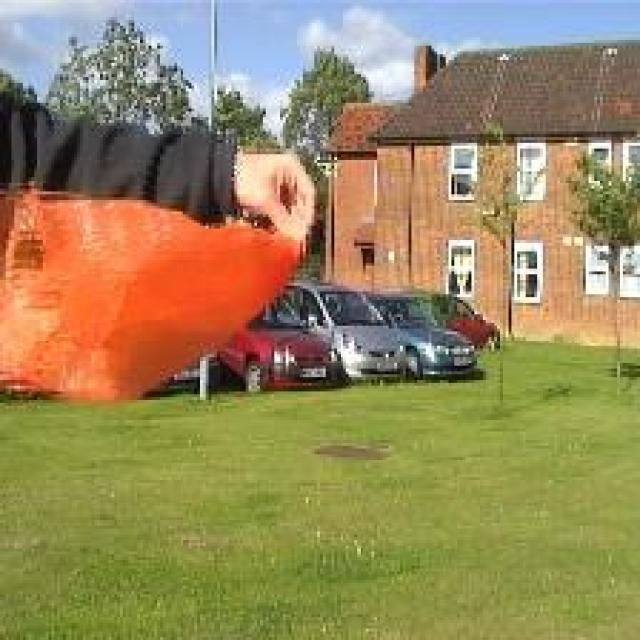other: (3, 185, 284, 403)
